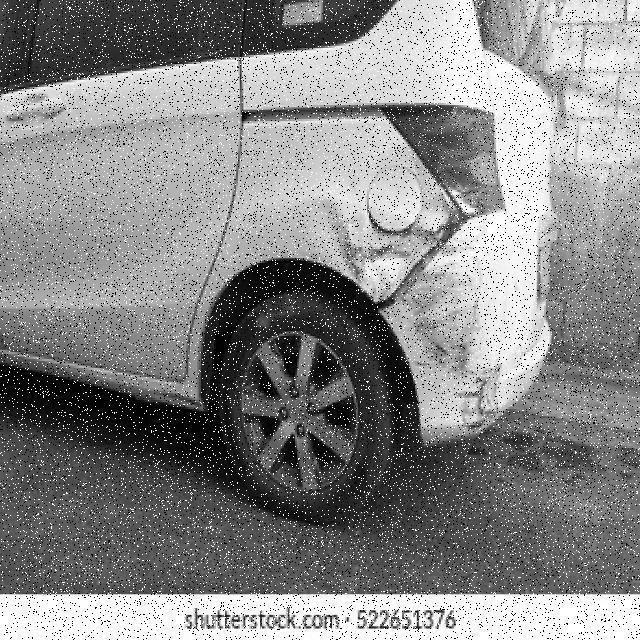quaterpanel-dent: (229, 109, 428, 314)
rear-bumper-dent: (384, 215, 590, 446)
